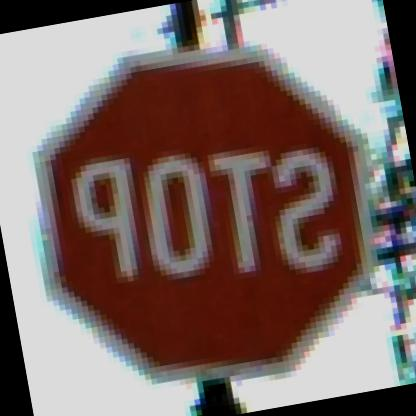stop: (0, 24, 401, 409)
